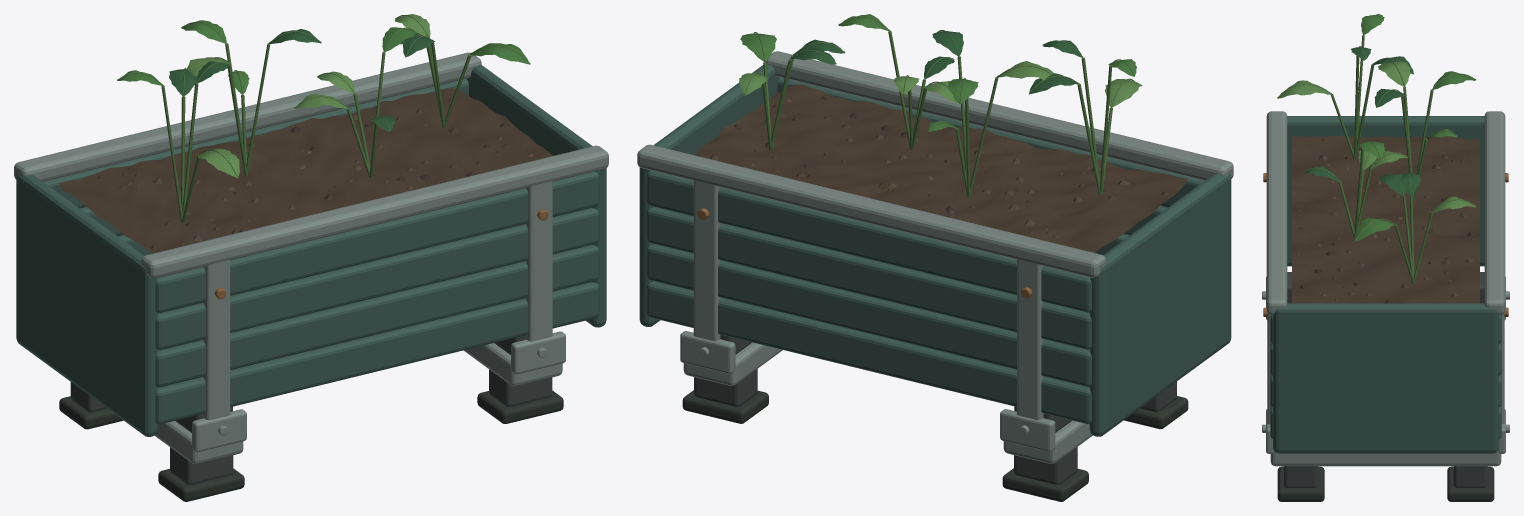
File: roof-nursery-box.glb
The picture shows the model from 3 angles, left to right: view 1: azimuth 30°, elevation 25°; view 2: azimuth 150°, elevation 25°; view 3: azimuth 270°, elevation 25°; orthographic projection. The views are drawn at different scales.
Visible parts, largest first — view 1: Portable nursery box / Dark green fired enamel, Portable nursery box / Weathered galvanized skin, Portable nursery box / Potting mix 1, Portable nursery box / Green petiole, Portable nursery box / Drip line rubber, Portable nursery box / Blackened cast supports, Portable nursery box / Young basil, Portable nursery box / Basil outer leaves, Portable nursery box / Basil shadow; view 2: Portable nursery box / Dark green fired enamel, Portable nursery box / Weathered galvanized skin, Portable nursery box / Potting mix 1, Portable nursery box / Green petiole, Portable nursery box / Drip line rubber, Portable nursery box / Blackened cast supports, Portable nursery box / Basil shadow, Portable nursery box / Young basil, Portable nursery box / Basil outer leaves; view 3: Portable nursery box / Dark green fired enamel, Portable nursery box / Potting mix 1, Portable nursery box / Weathered galvanized skin, Portable nursery box / Green petiole, Portable nursery box / Drip line rubber, Portable nursery box / Blackened cast supports, Portable nursery box / Young basil, Portable nursery box / Basil outer leaves, Portable nursery box / Basil shadow, Portable nursery box / Potting mix 2, Portable nursery box / Potting mix 0.
Part boxes in pixels (bbox=[...]): Portable nursery box / Dark green fired enamel: bbox=[16, 65, 606, 436]; Portable nursery box / Weathered galvanized skin: bbox=[14, 52, 608, 464]; Portable nursery box / Potting mix 1: bbox=[59, 87, 552, 253]; Portable nursery box / Green petiole: bbox=[117, 15, 530, 222]; Portable nursery box / Drip line rubber: bbox=[59, 390, 563, 501]; Portable nursery box / Blackened cast supports: bbox=[70, 335, 552, 484]; Portable nursery box / Young basil: bbox=[186, 14, 430, 178]; Portable nursery box / Basil outer leaves: bbox=[117, 20, 529, 94]; Portable nursery box / Basil shadow: bbox=[169, 29, 434, 131]; Portable nursery box / Dark green fired enamel: bbox=[639, 64, 1231, 436]; Portable nursery box / Weathered galvanized skin: bbox=[637, 51, 1233, 463]; Portable nursery box / Potting mix 1: bbox=[695, 84, 1187, 252]; Portable nursery box / Green petiole: bbox=[744, 16, 1134, 198]; Portable nursery box / Drip line rubber: bbox=[682, 390, 1188, 501]; Portable nursery box / Blackened cast supports: bbox=[694, 334, 1176, 484]; Portable nursery box / Basil shadow: bbox=[791, 31, 1082, 94]; Portable nursery box / Young basil: bbox=[739, 61, 1142, 107]; Portable nursery box / Basil outer leaves: bbox=[740, 14, 1136, 131]; Portable nursery box / Dark green fired enamel: bbox=[1270, 116, 1501, 453]; Portable nursery box / Potting mix 1: bbox=[1292, 136, 1479, 303]; Portable nursery box / Weathered galvanized skin: bbox=[1262, 111, 1509, 466]; Portable nursery box / Green petiole: bbox=[1277, 14, 1476, 283]; Portable nursery box / Drip line rubber: bbox=[1277, 466, 1494, 501]; Portable nursery box / Blackened cast supports: bbox=[1284, 272, 1487, 487]; Portable nursery box / Young basil: bbox=[1277, 62, 1476, 212]; Portable nursery box / Basil outer leaves: bbox=[1355, 15, 1475, 241]; Portable nursery box / Basil shadow: bbox=[1303, 47, 1420, 195]; Portable nursery box / Potting mix 2: bbox=[1295, 144, 1473, 296]; Portable nursery box / Potting mix 0: bbox=[1297, 157, 1474, 303].
Bounding box in the file's own units: 0.836 × 0.6698 × 0.4528.
